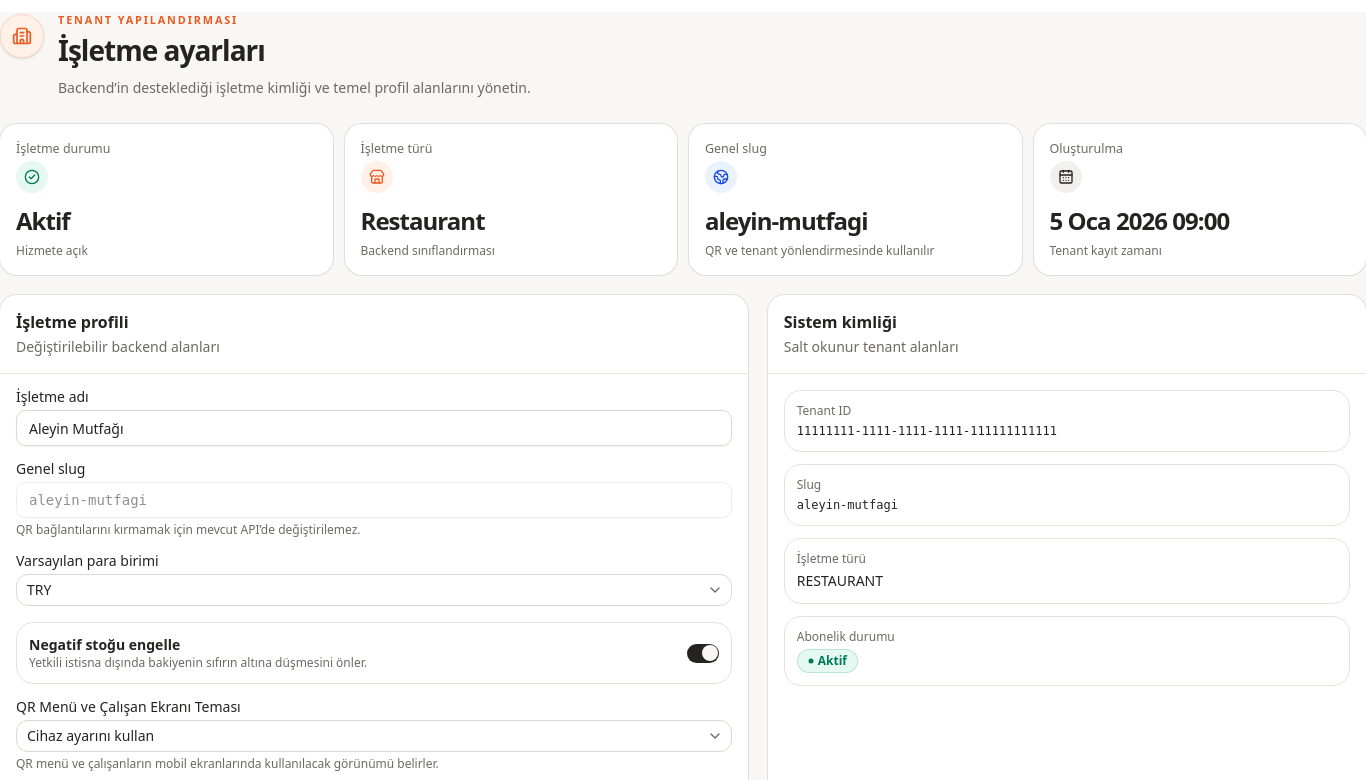
Test: BusinessSettings theme control › offers exactly the three modes the API accepts
The width and height of the screenshot is (1366, 780).
Step 1. Click the dropdown named "QR Menü ve Çalışan Ekranı Teması" → (91, 736), box x1=16 y1=720 x2=732 y2=752
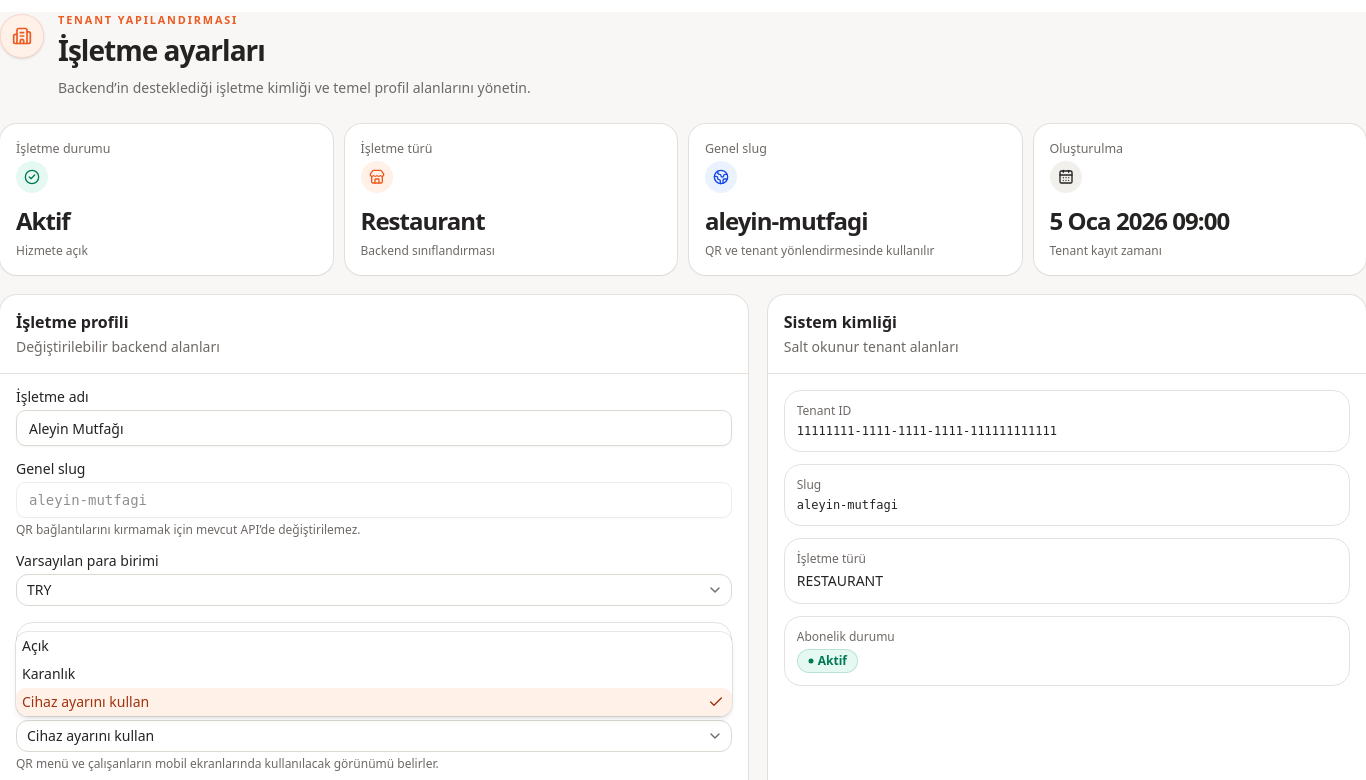
Expected: the option "Açık" is shown, x1=22 y1=636 x2=49 y2=655
Expected: the option "Karanlık" is shown, x1=22 y1=664 x2=75 y2=683
Expected: the option "Cihaz ayarını kullan" is shown, x1=16 y1=688 x2=732 y2=716
